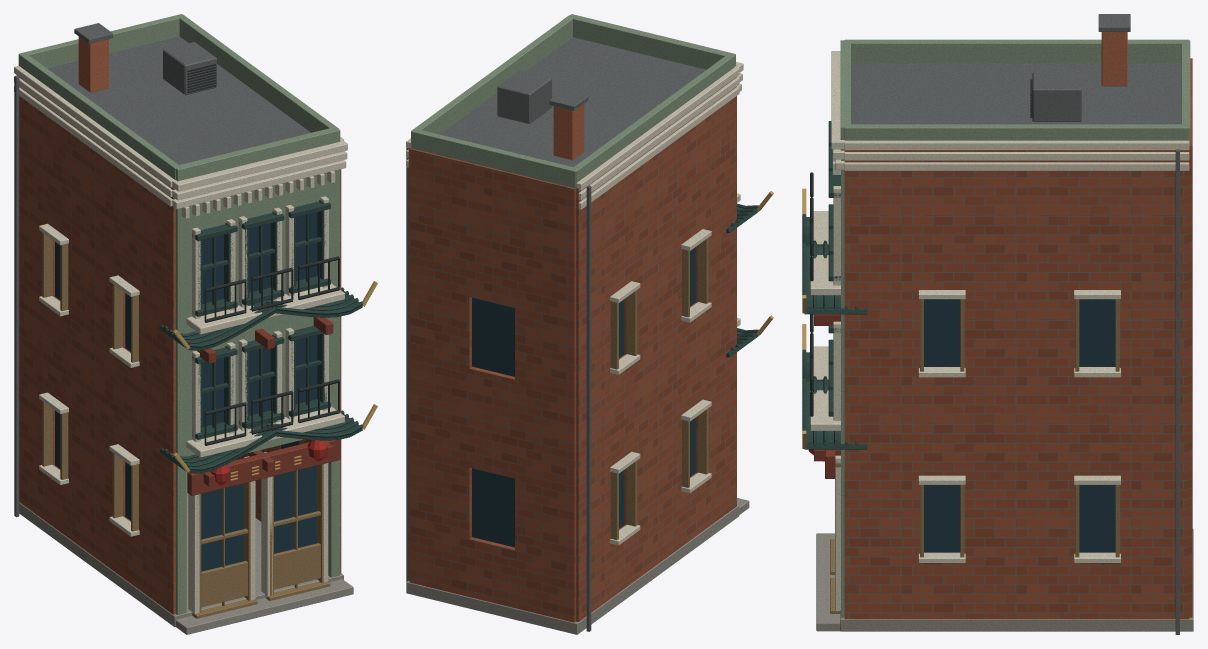
Rendered from CHINA14_lod1.glb.
The picture shows the model from 3 angles, left to right: view 1: azimuth 30°, elevation 25°; view 2: azimuth 150°, elevation 25°; view 3: azimuth 270°, elevation 25°; orthographic projection. The views are drawn at different scales.
Parts seen in each view (by area): view 1: CHINA14_LOD1; view 2: CHINA14_LOD1; view 3: CHINA14_LOD1.
Boxes of the visible parts, bbox=[...] form: CHINA14_LOD1: bbox=[14, 14, 377, 634]; CHINA14_LOD1: bbox=[406, 14, 773, 634]; CHINA14_LOD1: bbox=[802, 14, 1193, 634].
Bounding box in the file's own units: 4.49 × 10.45 × 6.81.
14 materials, 11 textured.
